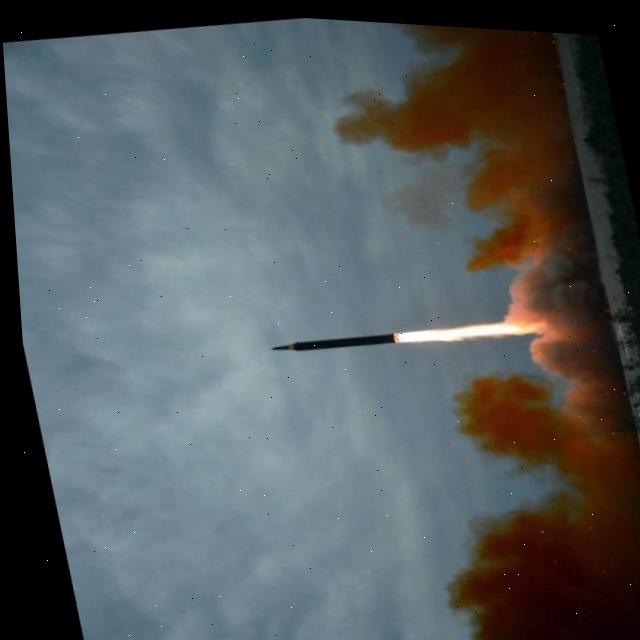missile: (259, 310, 402, 374)
